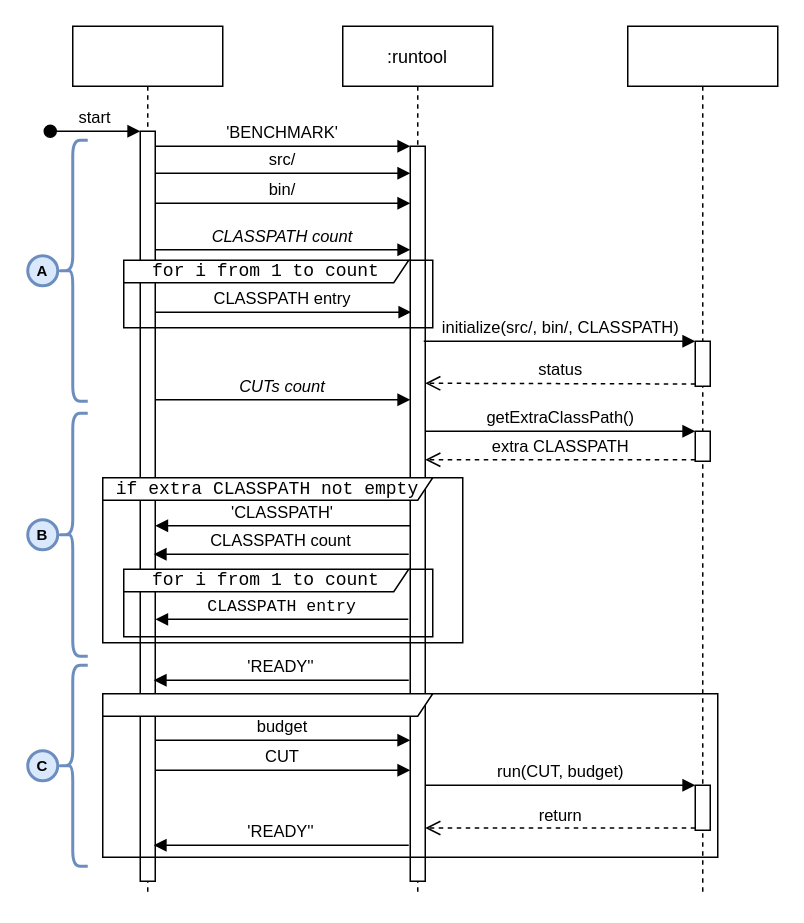
Some shapes in this 804 by 923 pixel diagram are drawn without their labels. The box of each missing label's shape, as (x1, y1, x2, y2) in pixels:
:benchmarktool: (71, 25, 223, 896)
:MyTool: (626, 25, 778, 896)
for i from 1 to CUTscount: (101, 692, 718, 857)
